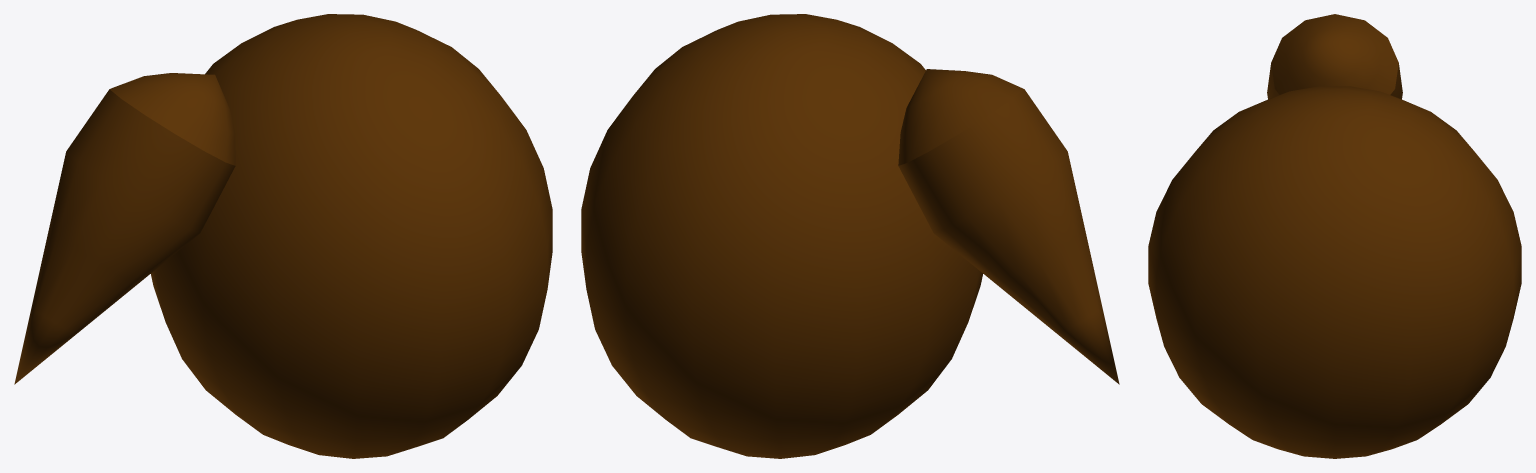
File: PonyTail.fbx
3 views of the same model, side by side, from view 1: azimuth 30°, elevation 25°; view 2: azimuth 150°, elevation 25°; view 3: azimuth 270°, elevation 25° (orthographic). The views are drawn at different scales.
Visible parts, largest first — view 1: PonyTailHair; view 2: PonyTailHair; view 3: PonyTailHair.
Boxes of the visible parts, box(x1,y1,x2,y2) form: PonyTailHair: box(14, 14, 552, 458); PonyTailHair: box(581, 14, 1119, 458); PonyTailHair: box(1148, 14, 1521, 458).
Bounding box in the file's own units: 11.26 × 8.59 × 8.44.
